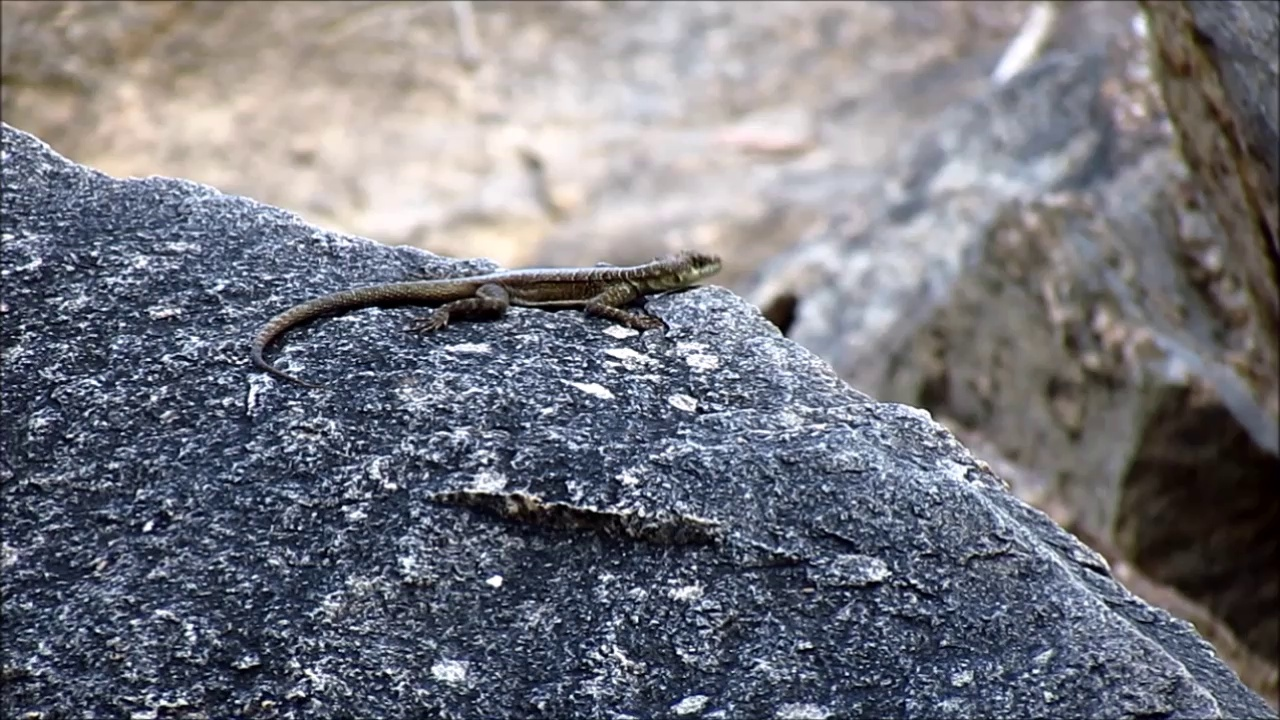body: (251, 261, 658, 390)
head: (647, 248, 724, 295)
